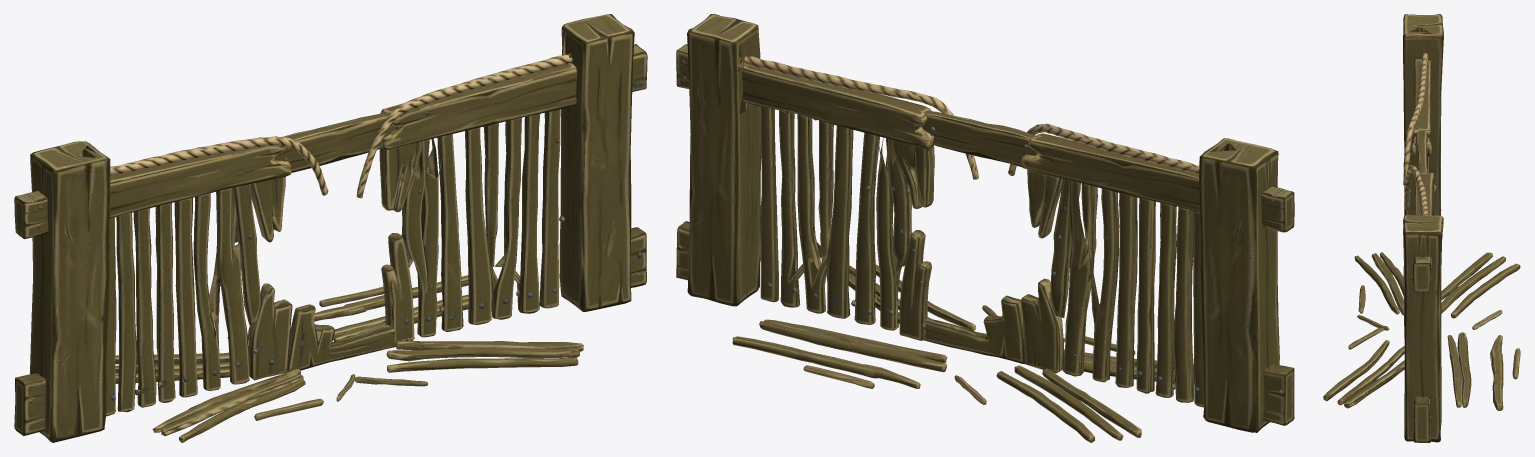
File: av_muro.glb
3 views of the same model, side by side, from view 1: azimuth 30°, elevation 25°; view 2: azimuth 150°, elevation 25°; view 3: azimuth 270°, elevation 25° (orthographic). The views are drawn at different scales.
Parts seen in each view (by area): view 1: Mesh_0; view 2: Mesh_0; view 3: Mesh_0.
Boxes of the visible parts, left/top/right/bottom form: Mesh_0: left=14, top=14, right=647, bottom=442; Mesh_0: left=676, top=14, right=1294, bottom=442; Mesh_0: left=1323, top=14, right=1520, bottom=442.
Bounding box in the file's own units: 1 × 0.4238 × 0.3564.
Materials: 1 (1 with a texture image).
